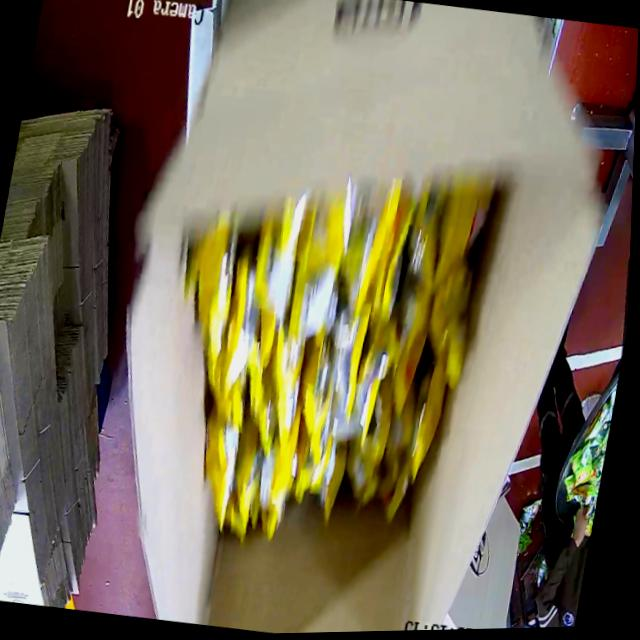SALTED: (132, 220, 470, 559)
